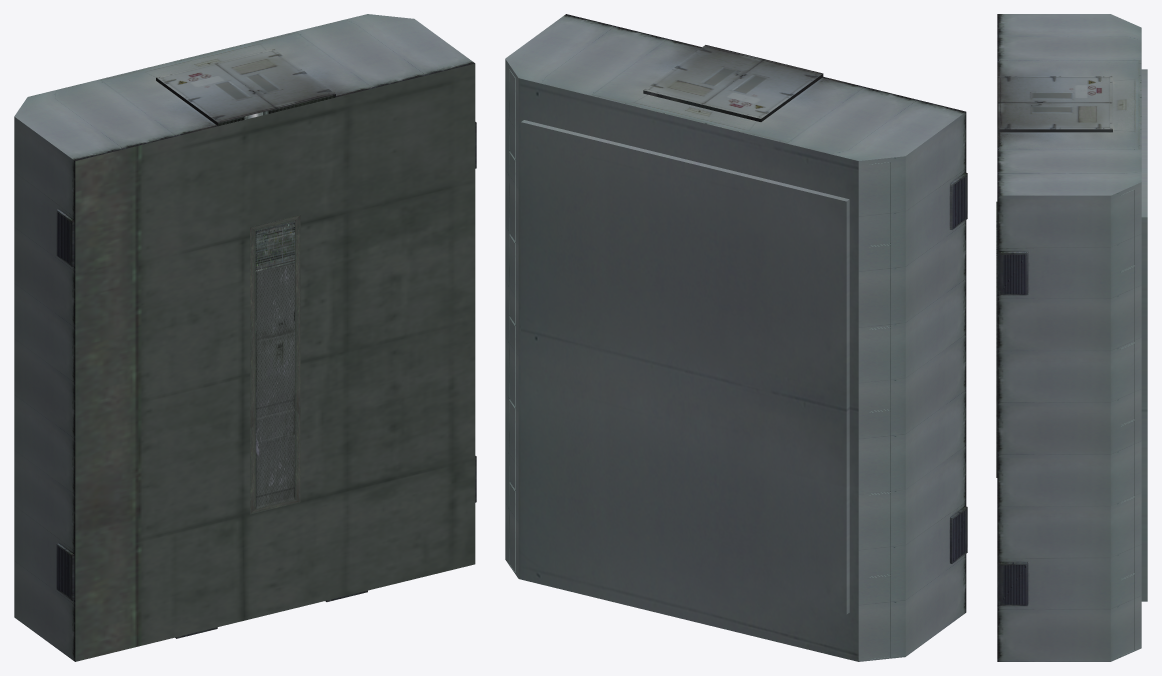
Rendered from PaintBooth.FBX.
3 views of the same model, side by side, from view 1: azimuth 30°, elevation 25°; view 2: azimuth 150°, elevation 25°; view 3: azimuth 270°, elevation 25° (orthographic). The views are drawn at different scales.
Parts seen in each view (by area): view 1: PaintBooth; view 2: PaintBooth; view 3: PaintBooth.
Boxes of the visible parts, <box> form: PaintBooth: <box>14,14,476,661</box>; PaintBooth: <box>505,14,967,661</box>; PaintBooth: <box>996,14,1147,661</box>.
Size of the model in its own units: 880 by 1054 by 306.
